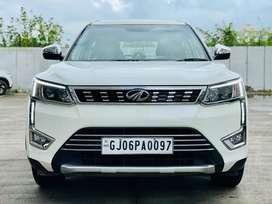GJ06PA0097: (100, 135, 172, 153)
